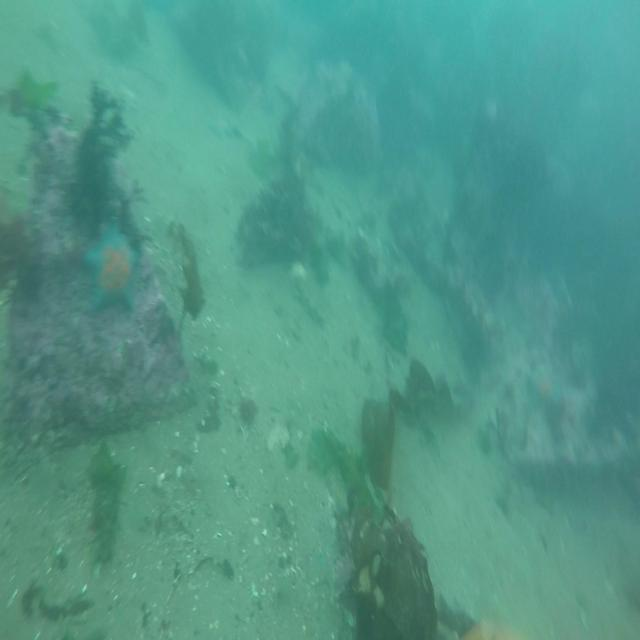holothurian: (332, 547, 357, 601)
starfish: (80, 219, 142, 317), (526, 353, 564, 420)
